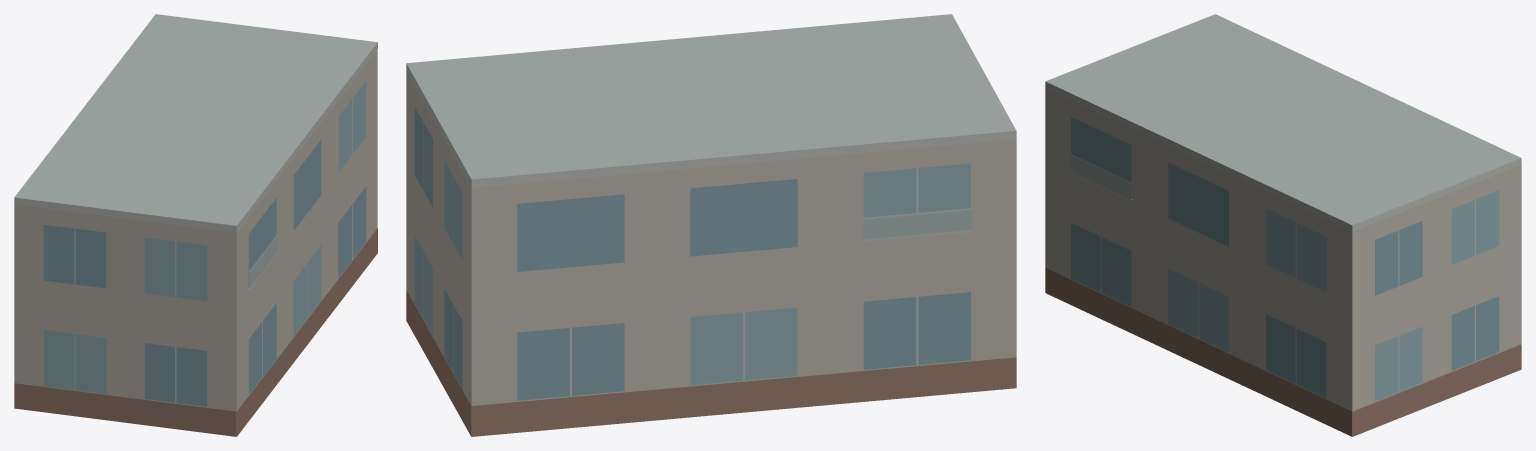
The model's file is survey-upis-32638708.glb.
The picture shows the model from 3 angles, left to right: view 1: azimuth 30°, elevation 25°; view 2: azimuth 150°, elevation 25°; view 3: azimuth 270°, elevation 25°; orthographic projection. The views are drawn at different scales.
Visible parts, largest first — view 1: survey-upis-32638708.tmp; view 2: survey-upis-32638708.tmp; view 3: survey-upis-32638708.tmp.
Part boxes in pixels (x1,y1,x2,y2): survey-upis-32638708.tmp: (14, 14, 377, 436); survey-upis-32638708.tmp: (406, 14, 1016, 436); survey-upis-32638708.tmp: (1045, 14, 1521, 436).
Bounding box in the file's own units: 16.29 × 7.6 × 15.51.
